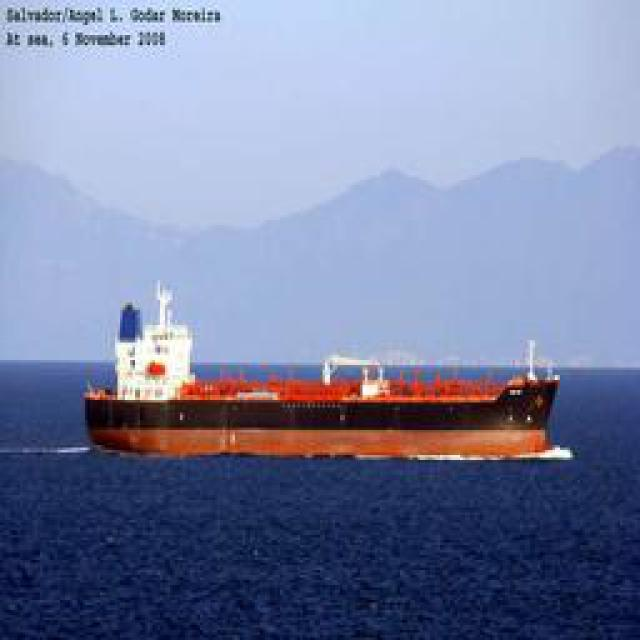Ship: (88, 318, 556, 463)
